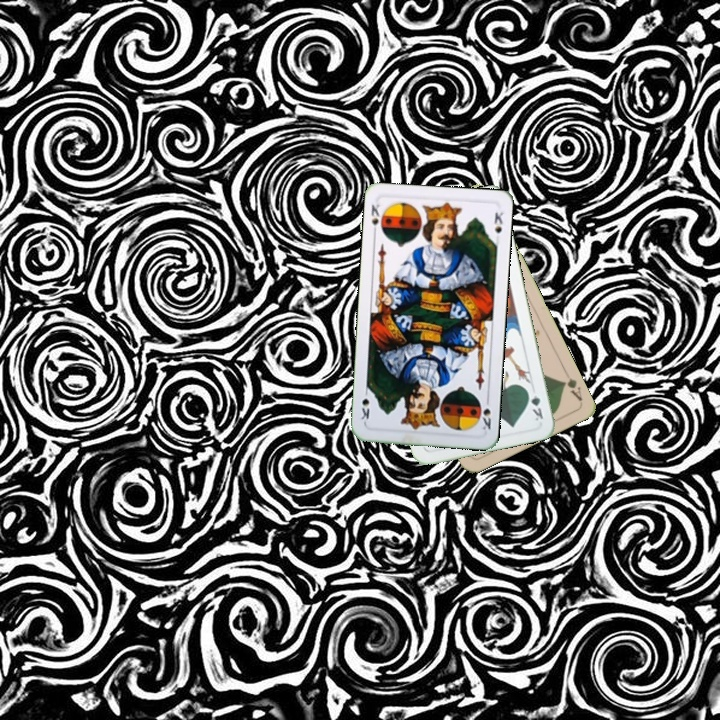GA: (558, 374, 585, 404)
GK: (523, 385, 546, 423)
SK: (367, 200, 387, 238), (475, 393, 493, 434)
